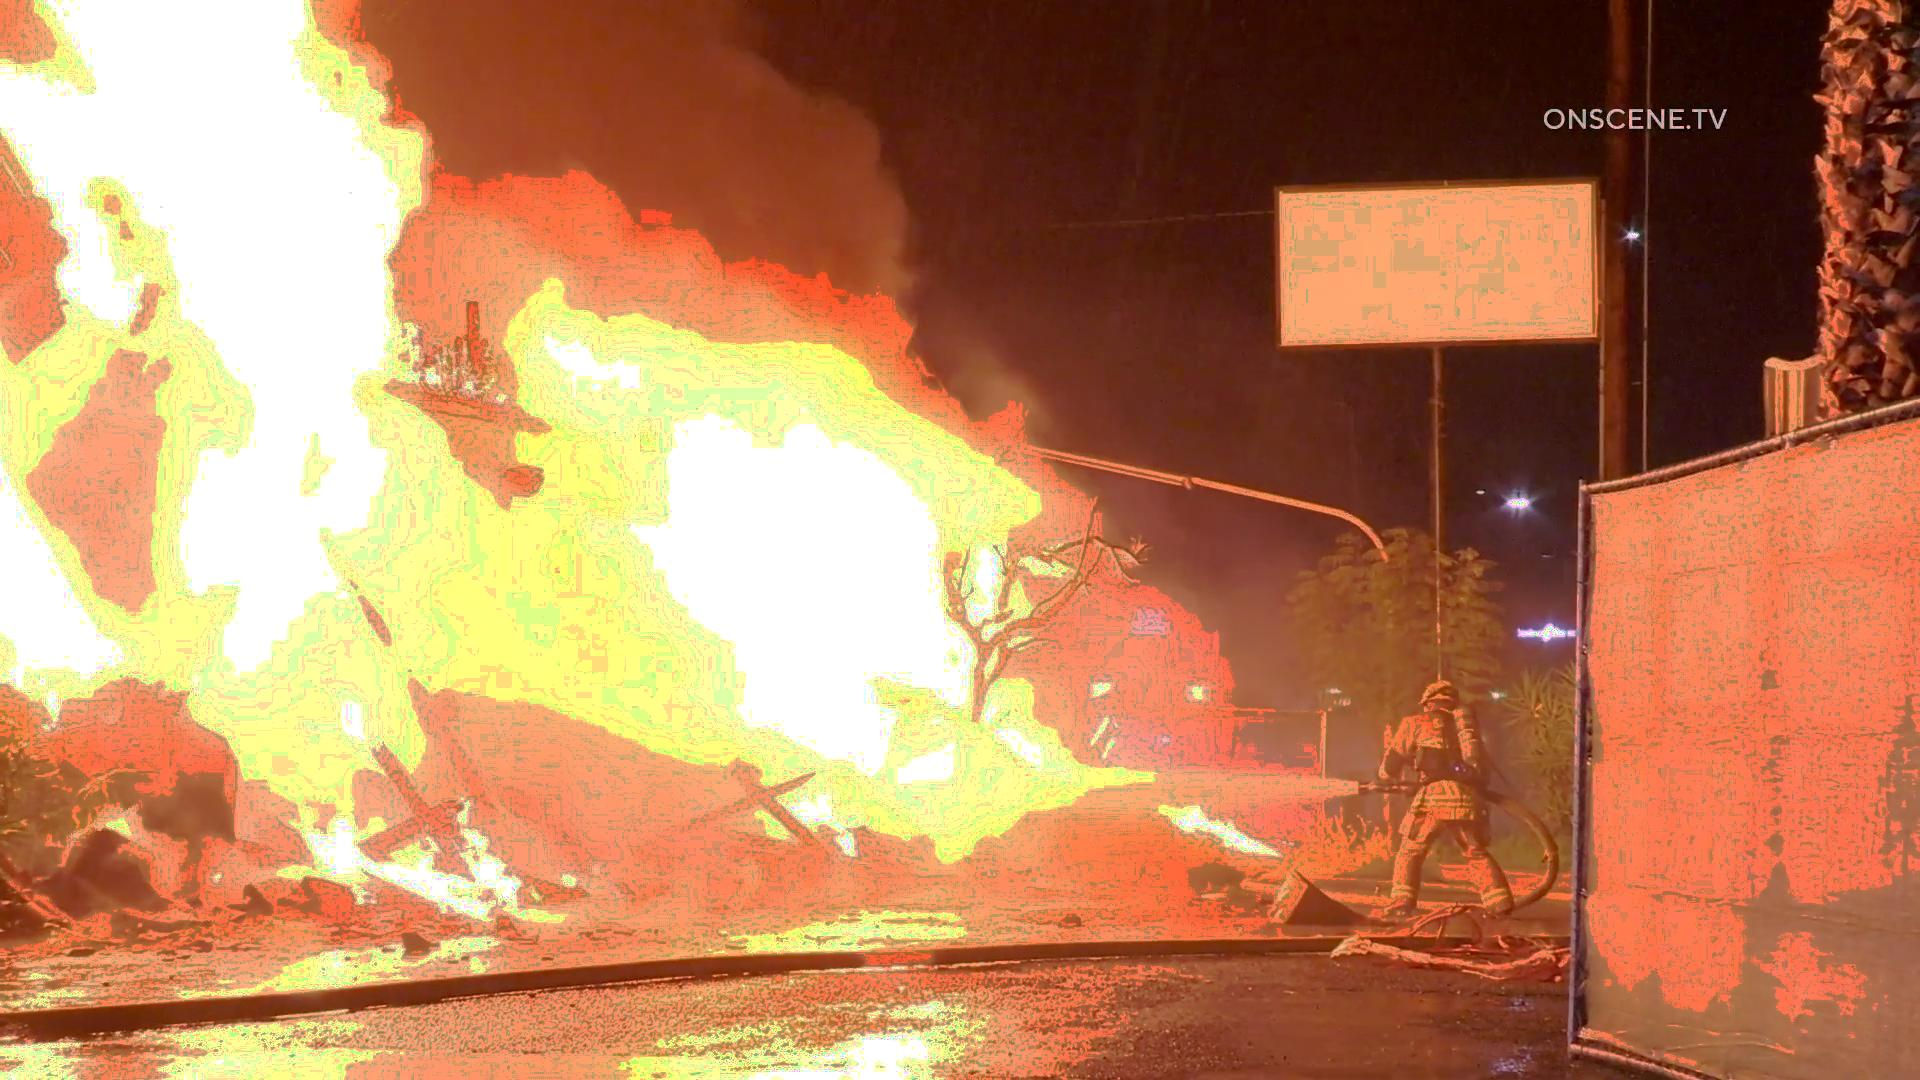fire: (0, 11, 393, 738), (580, 315, 1031, 782)
smoke: (373, 0, 856, 284)
